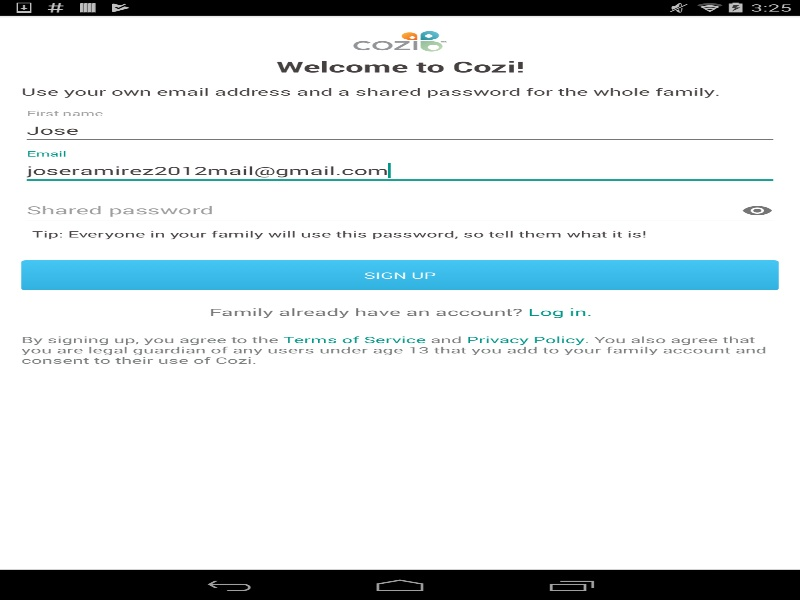Button: (21, 260, 778, 290), (736, 196, 778, 225)
Input: (21, 156, 778, 185), (21, 196, 778, 225), (21, 116, 778, 144)
